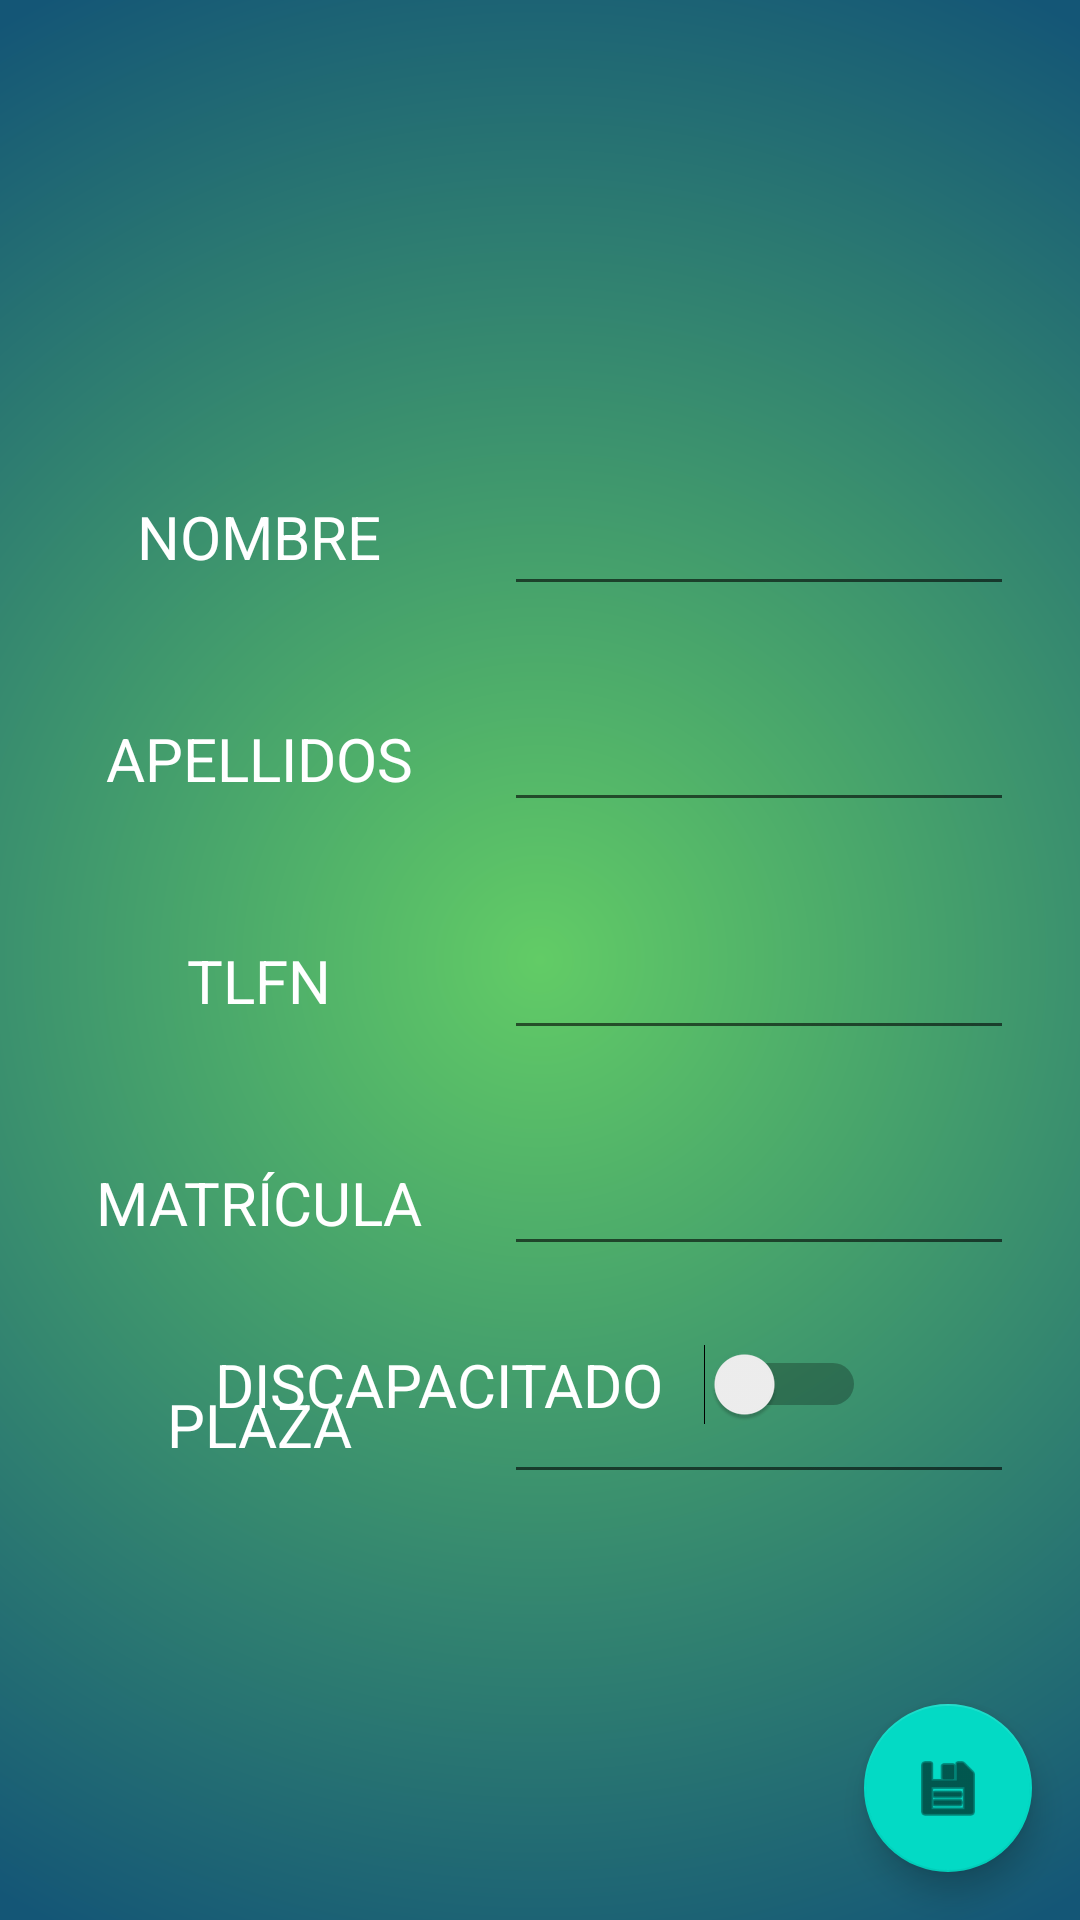

Icon bounding boxes for this 1080x1920 phone screenshot, format (x1, y1, x2, y2):
save: (864, 1704, 1032, 1872)
